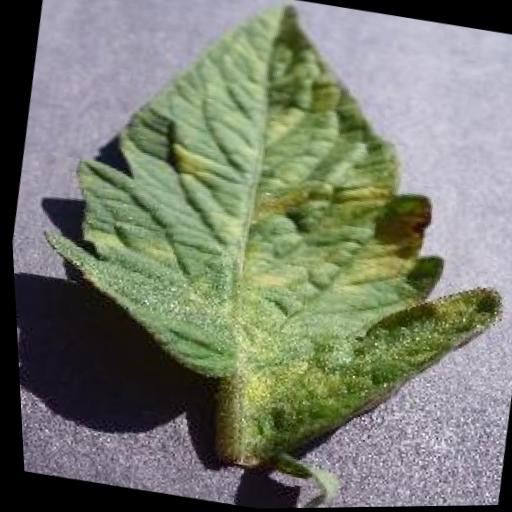Leaf Mold: (4, 0, 512, 486)
